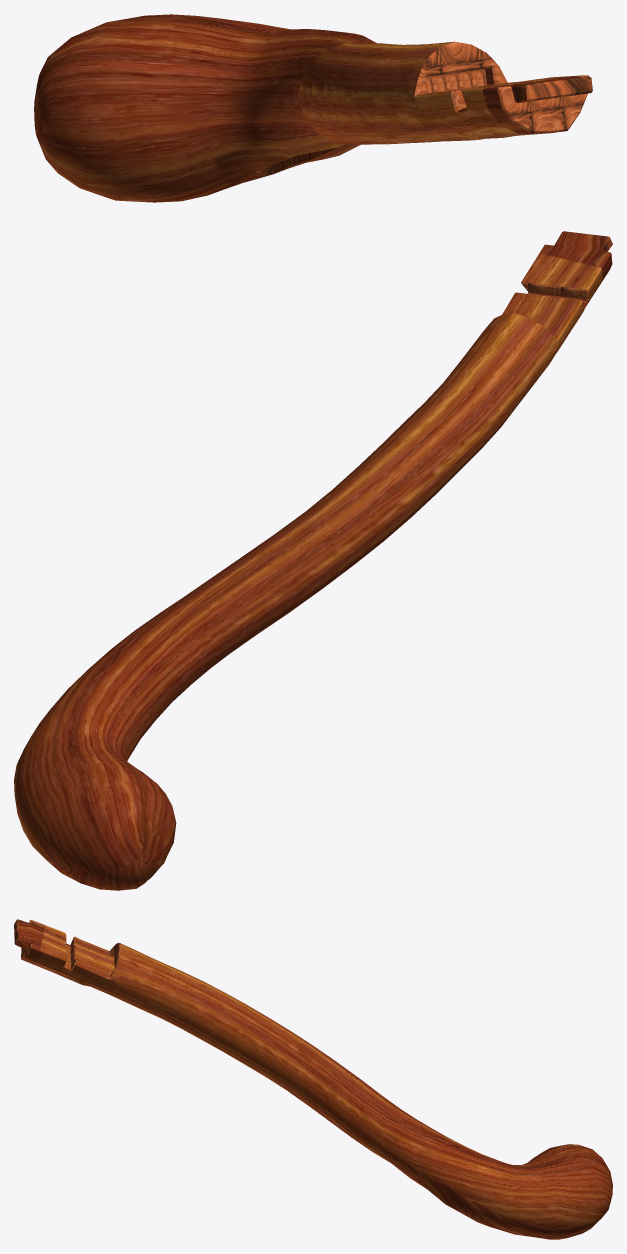
File: quanyi_J_D_yiquan05.FBX
The picture shows the model from 3 angles, top to bottom: view 1: azimuth 30°, elevation 25°; view 2: azimuth 150°, elevation 25°; view 3: azimuth 270°, elevation 25°; orthographic projection. The views are drawn at different scales.
Parts seen in each view (by area): view 1: quanyi_J_D_yiquan05; view 2: quanyi_J_D_yiquan05; view 3: quanyi_J_D_yiquan05.
Part boxes in pixels (box(x1,y1,x2,y2)): quanyi_J_D_yiquan05: box(34, 14, 592, 202); quanyi_J_D_yiquan05: box(14, 231, 612, 890); quanyi_J_D_yiquan05: box(14, 919, 612, 1239).
Size of the model in its own units: 11.59 by 17.92 by 35.62.
Materials: 2 (2 with a texture image).
